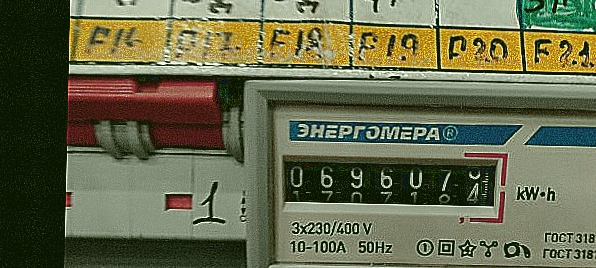0: (287, 163, 304, 188), (407, 164, 422, 189)
4: (463, 180, 480, 205)
6: (377, 164, 394, 189), (317, 164, 334, 188)
7: (437, 167, 452, 193)
9: (347, 165, 363, 189)
screen: (267, 141, 511, 220)
